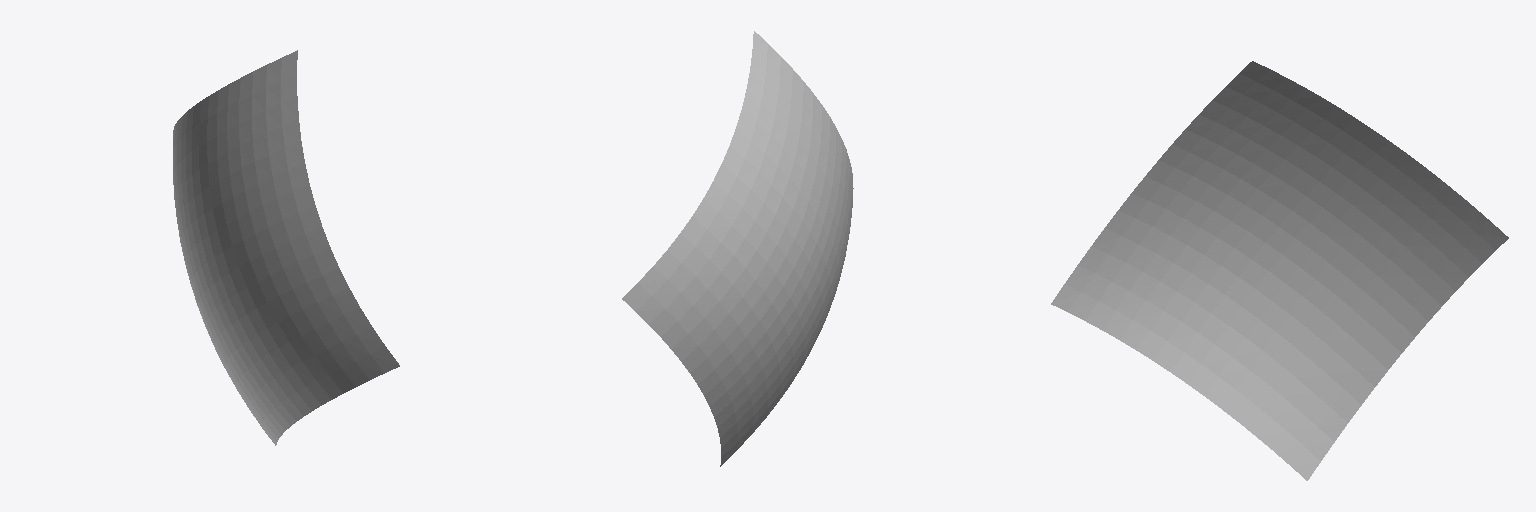
The model's file is surf1.obj.
The picture shows the model from 3 angles: view 1: azimuth 30°, elevation 25°; view 2: azimuth 150°, elevation 25°; view 3: azimuth 270°, elevation 25°; orthographic projection.
Parts seen in each view (by area): view 1: SurfPatch; view 2: SurfPatch; view 3: SurfPatch.
Boxes of the visible parts, <box> form: SurfPatch: <box>173,50,399,445</box>; SurfPatch: <box>622,31,853,466</box>; SurfPatch: <box>1051,61,1508,480</box>.
Bounding box in the file's own units: 0.2337 × 1.38 × 1.37.